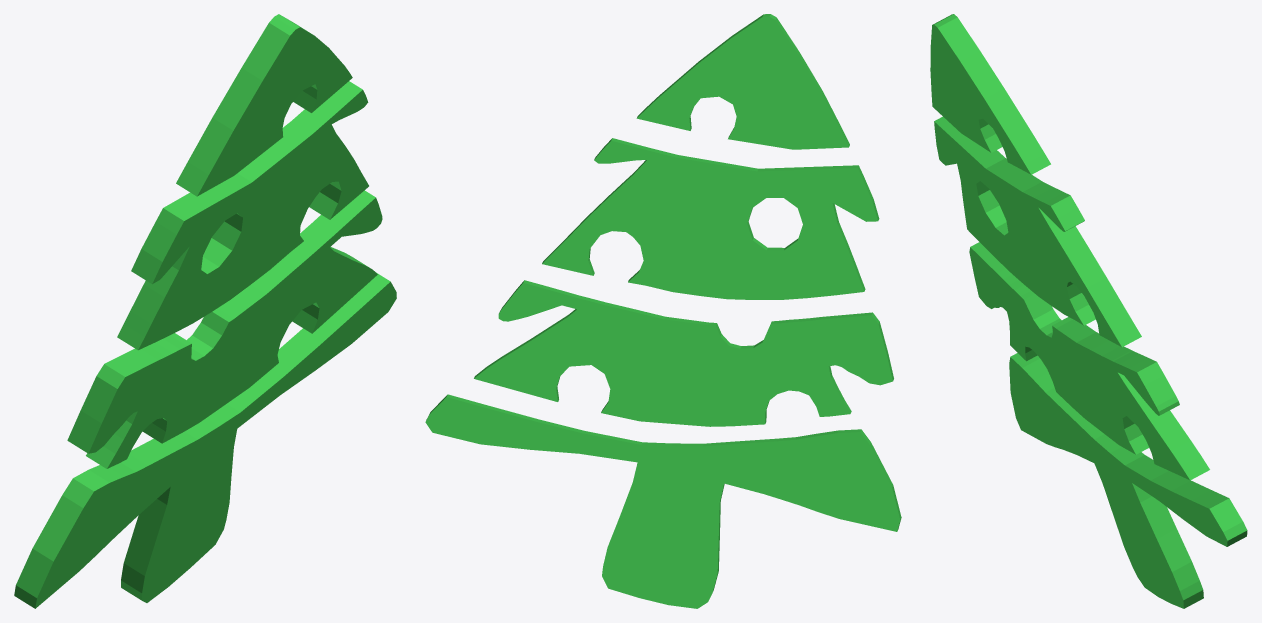
The model's file is fir_tree_decor_blue.gltf.
3 renders of one model, left to right at view 1: azimuth 30°, elevation 25°; view 2: azimuth 150°, elevation 25°; view 3: azimuth 270°, elevation 25°, orthographic. The views are drawn at different scales.
Visible parts, largest first — view 1: node_id4; view 2: node_id4; view 3: node_id4.
Boxes of the visible parts, x1,y1,x2,y2 form: node_id4: (14,14,396,608); node_id4: (425,14,901,608); node_id4: (930,14,1247,608).
Bounding box in the file's own units: 0.381 × 0.4915 × 0.2428.
